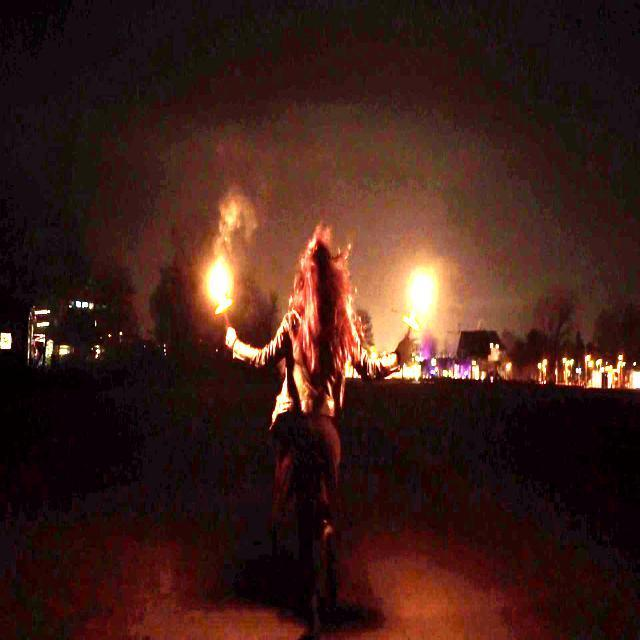Smoke: (412, 276, 434, 310), (211, 264, 227, 308)
